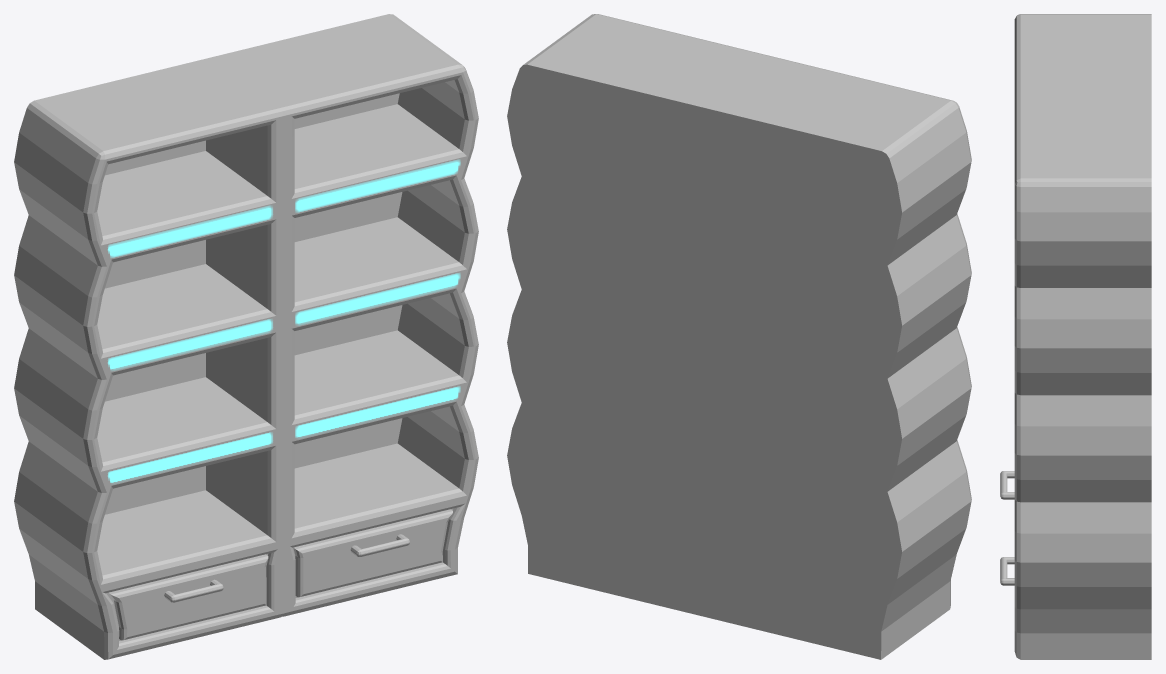
The model's file is Shelf4.fbx.
3 views of the same model, side by side, from view 1: azimuth 30°, elevation 25°; view 2: azimuth 150°, elevation 25°; view 3: azimuth 270°, elevation 25° (orthographic). The views are drawn at different scales.
Visible parts, largest first — view 1: Shelf4Baked; view 2: Shelf4Baked; view 3: Shelf4Baked.
Part boxes in pixels (x1,y1,x2,y2): Shelf4Baked: (14,14,478,659); Shelf4Baked: (507,14,971,659); Shelf4Baked: (1000,14,1151,659).
Size of the model in its own units: 162 by 200 by 57.
